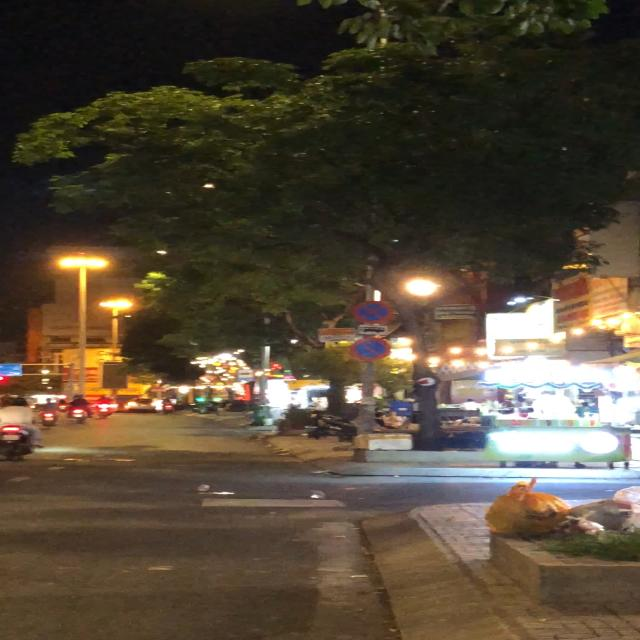Bien bao cam do xe: (350, 337, 392, 362), (350, 300, 392, 325)
